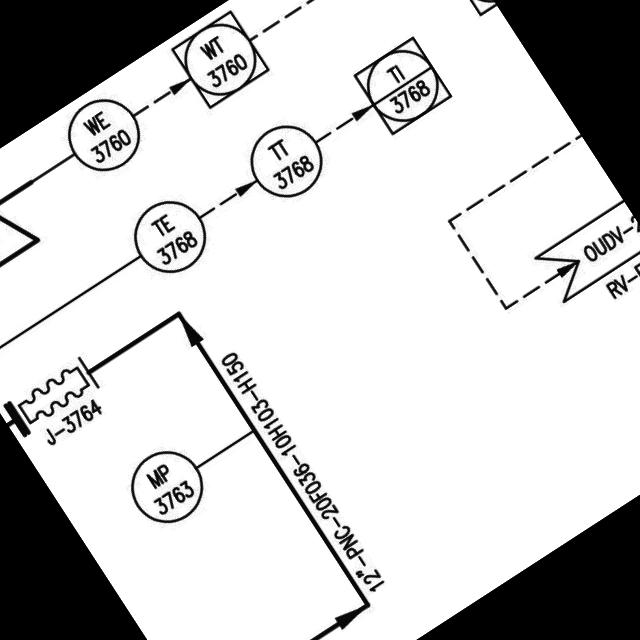EJ: (5, 350, 105, 434)
